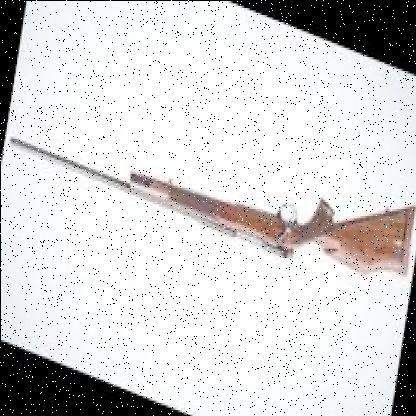rifle: (8, 52, 416, 315)
